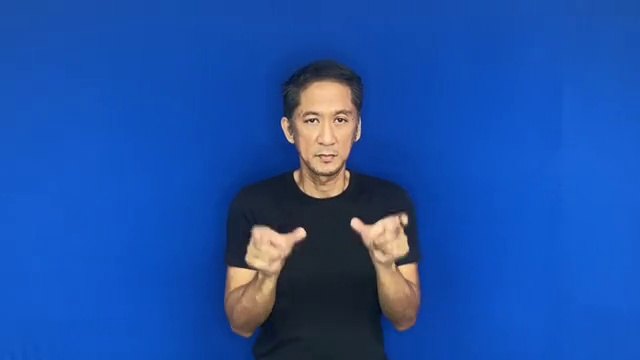crab: (241, 203, 418, 281)
